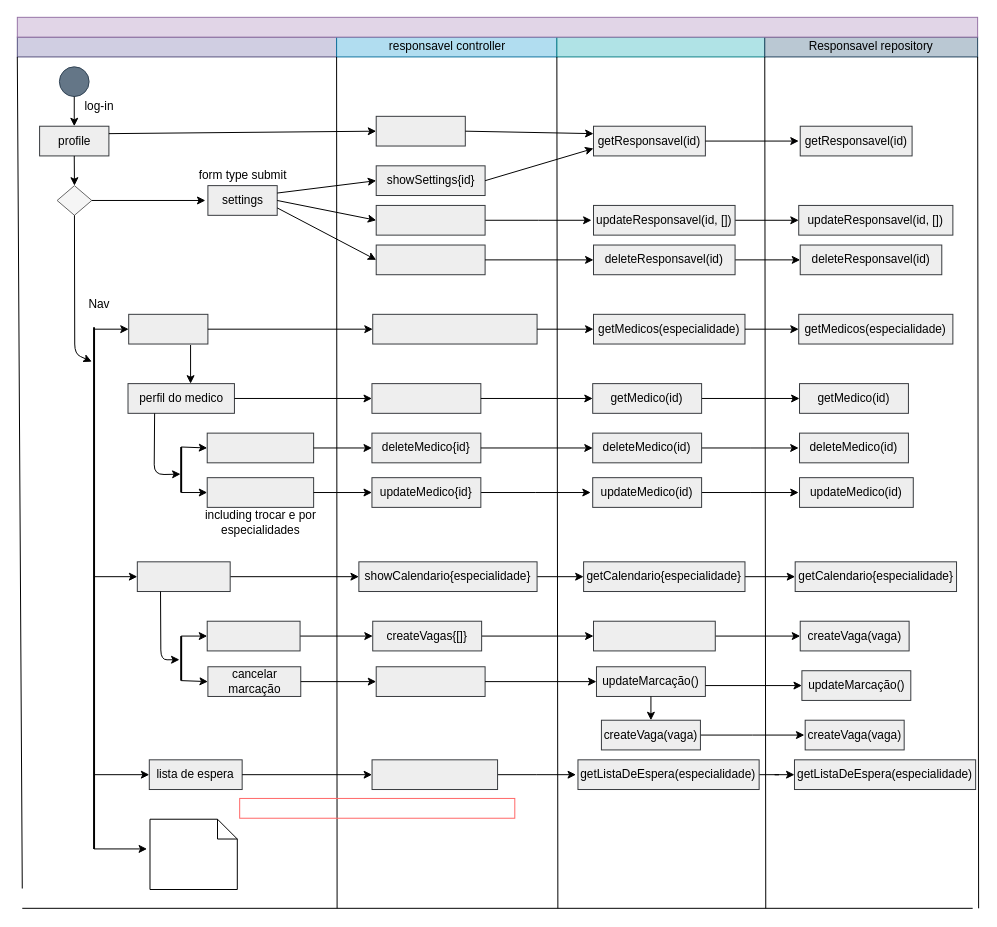
Some shapes in this 997 by 927 pixel diagram are drawn without their labels. Each missing label, with the centre of its shape:
"abrir vagas" belongs at (253,635).
"calendario geral" belongs at (183,576).
"createVagas(vagas[])" belongs at (654,635).
"delete medico" belongs at (260,447).
"deleteProfile{id}" belongs at (430,259).
"medicos" belongs at (168,328).
"Responsavel da Especialidade" belongs at (497,26).
"Responsavel service" belongs at (660,46).
"Resto de coisas do medico" belongs at (193,854).
"settings Medico" belongs at (260,492).
"showListaDeEspera()" belongs at (434,774).
"showMedicos{especialidade}" belongs at (454,328).
"showMedico{id}" belongs at (426,398).
"showProfile{id}" belongs at (420,130).
"Todo: resto das funcionalidades da lista de espera" belongs at (377,807).
"updateMarcação{id}" belongs at (430,681).
"updateProfile{id}" belongs at (430,219).
"views" belongs at (176,46).
